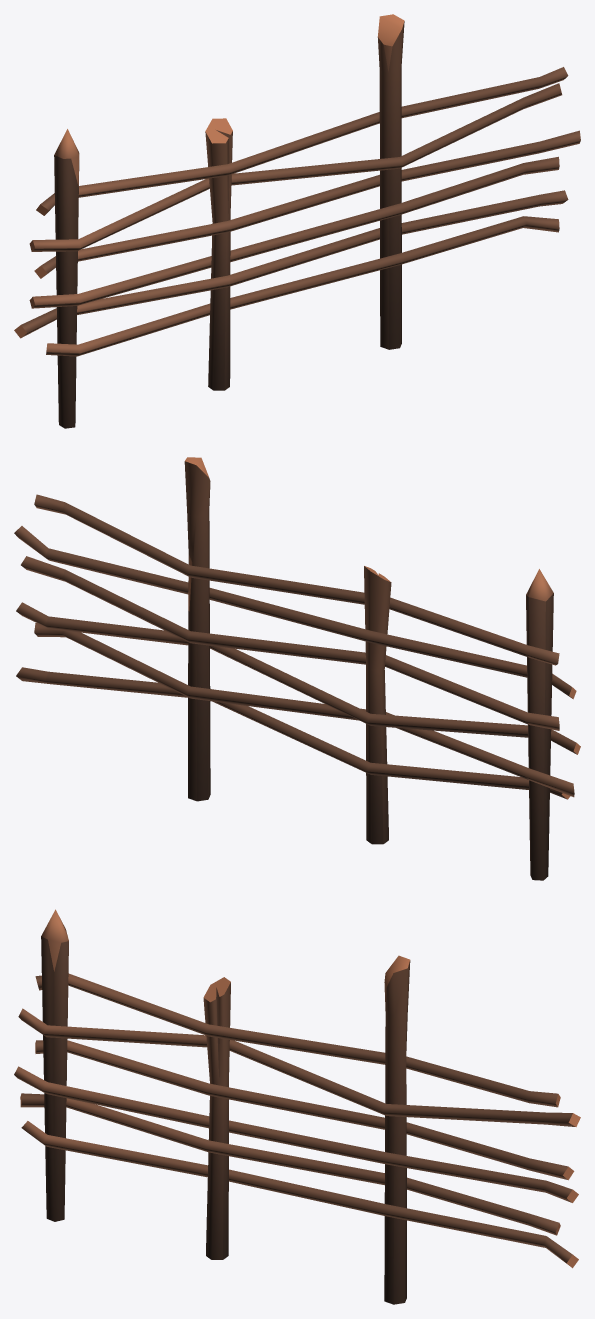
The model's file is Fence_3A_Part_1.fbx.
3 renders of one model, top to bottom at view 1: azimuth 30°, elevation 25°; view 2: azimuth 150°, elevation 25°; view 3: azimuth 330°, elevation 25°, orthographic. The views are drawn at different scales.
Parts seen in each view (by area): view 1: Fence_3A_Part_1; view 2: Fence_3A_Part_1; view 3: Fence_3A_Part_1.
Part boxes in pixels (x1,y1,x2,y2): Fence_3A_Part_1: (14, 14, 580, 428); Fence_3A_Part_1: (14, 457, 580, 880); Fence_3A_Part_1: (14, 909, 580, 1304).
Size of the model in its own units: 234 by 132 by 19.31.
